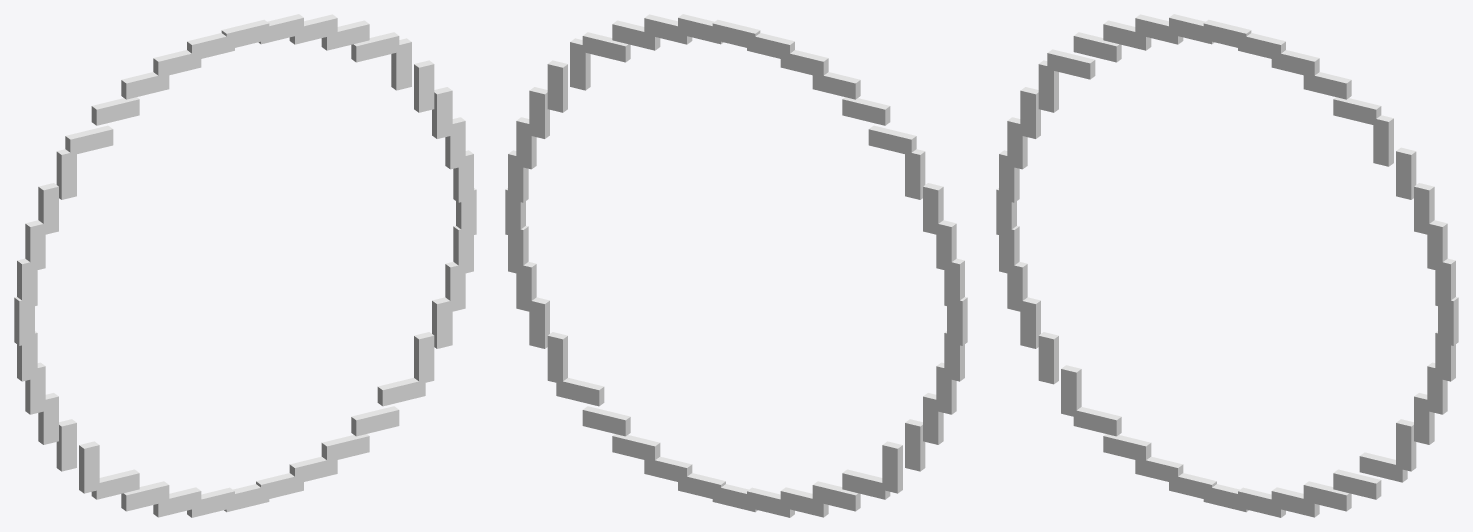
Rendered from deathRing.obj.
3 views of the same model, side by side, from view 1: azimuth 30°, elevation 25°; view 2: azimuth 150°, elevation 25°; view 3: azimuth 330°, elevation 25° (orthographic).
Parts seen in each view (by area): view 1: deathRing; view 2: deathRing; view 3: deathRing.
Part boxes in pixels (bbox=[...]): deathRing: bbox=[14, 14, 476, 517]; deathRing: bbox=[505, 14, 967, 517]; deathRing: bbox=[996, 14, 1458, 517].
Bounding box in the file's own units: 2.07 × 2.07 × 0.04.
Materials: 1 (1 with a texture image).
